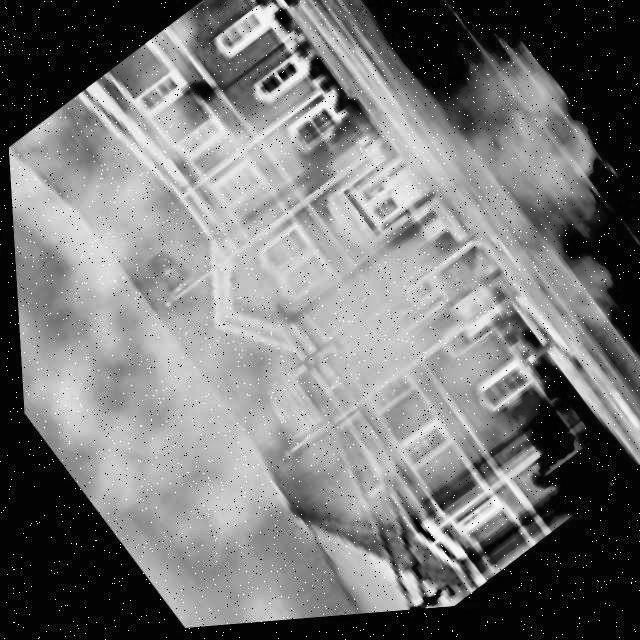Smoke: (7, 0, 640, 631)
